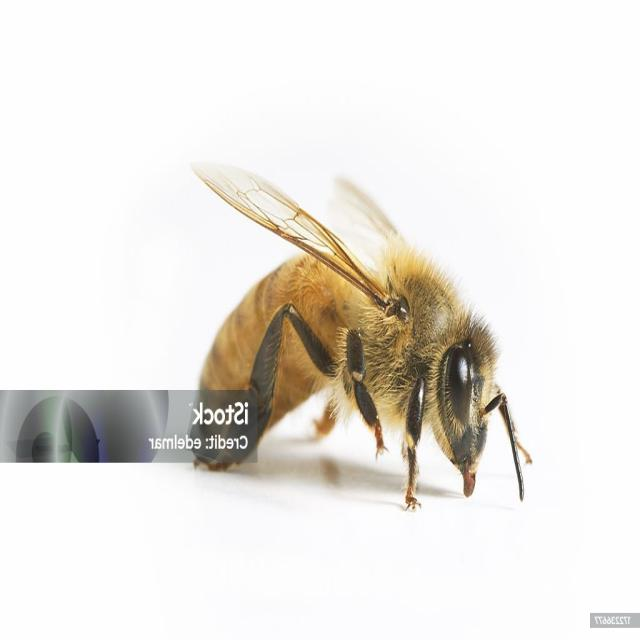bee: (188, 151, 532, 508), (536, 479, 542, 501)
